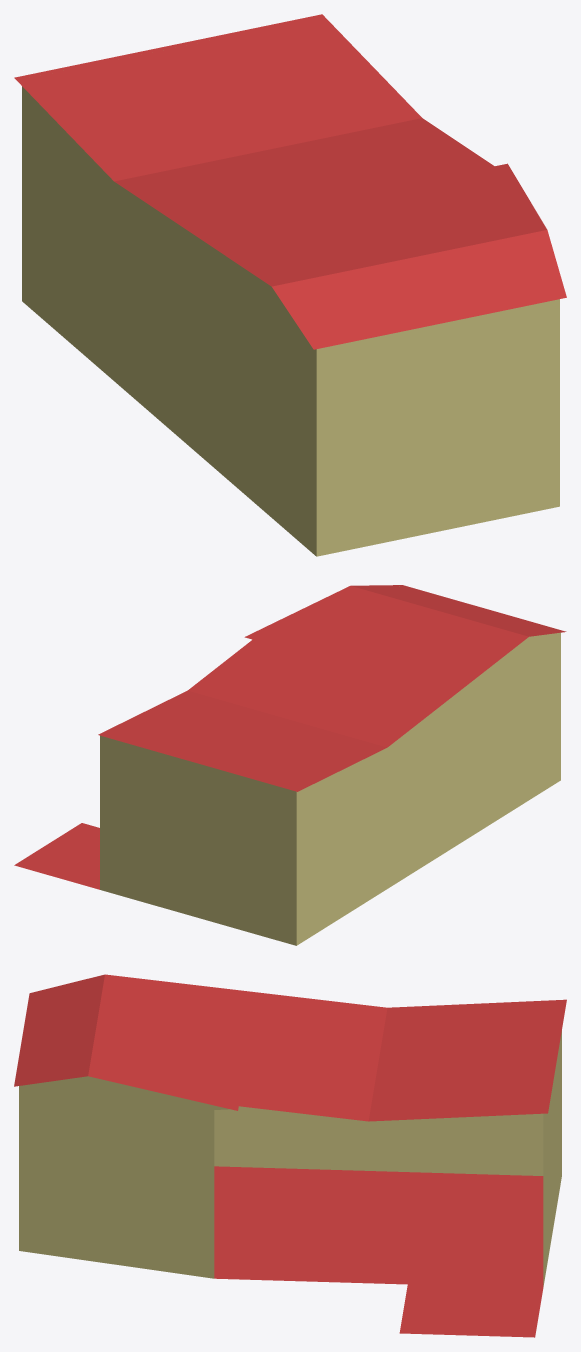
The picture shows the model from 3 angles, top to bottom: view 1: azimuth 30°, elevation 25°; view 2: azimuth 150°, elevation 25°; view 3: azimuth 270°, elevation 25°; orthographic projection. The views are drawn at different scales.
Size of the model in its own units: 22.17 by 28.99 by 10.8.
